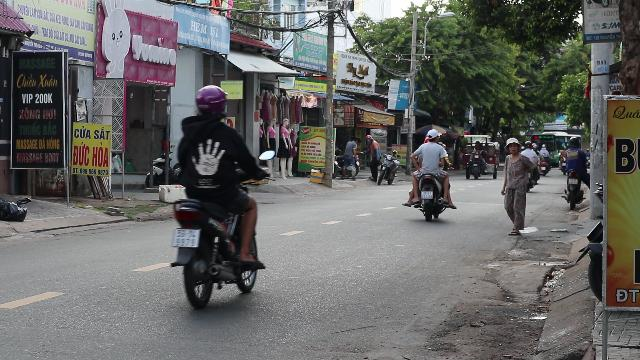helmet: (193, 84, 229, 120)
licenseplate: (172, 229, 200, 247), (421, 190, 433, 198)
motorcyclist: (166, 83, 266, 311), (404, 128, 456, 220)
nohelmet: (425, 130, 439, 142)
